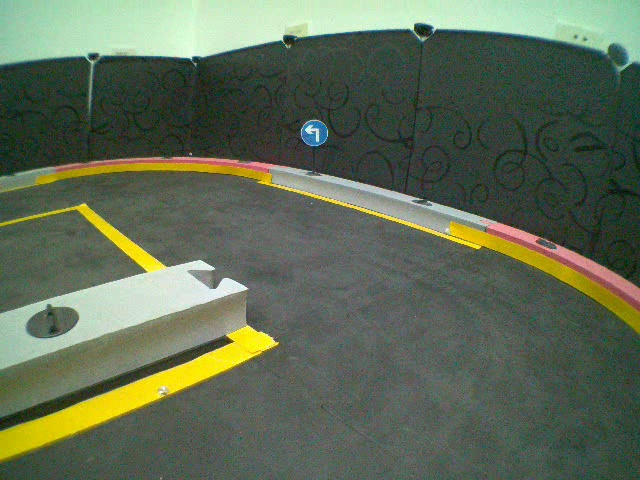turn: (302, 115, 335, 149)
